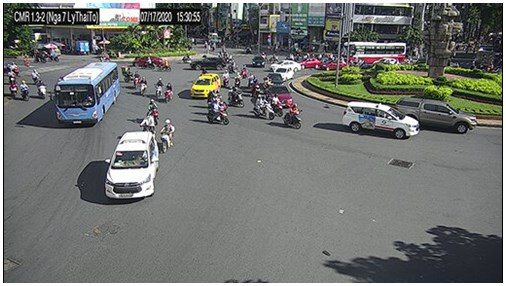xe_buyt: (342, 42, 405, 64)
xe_hoi: (105, 131, 160, 198), (341, 102, 419, 140), (397, 97, 476, 134), (267, 86, 293, 108), (192, 57, 227, 69), (271, 60, 301, 72), (373, 58, 400, 68), (298, 58, 321, 69), (266, 72, 282, 87), (321, 60, 347, 69), (274, 68, 293, 80), (252, 56, 264, 69)
xe_may: (206, 100, 229, 125), (253, 94, 275, 120), (160, 120, 175, 154), (282, 102, 300, 130), (141, 111, 156, 140), (209, 89, 228, 109), (266, 95, 283, 116), (146, 99, 159, 126), (229, 86, 244, 107), (122, 65, 138, 82), (20, 80, 30, 102), (164, 82, 173, 104), (142, 56, 155, 70), (37, 79, 46, 99), (32, 69, 43, 85), (9, 61, 20, 77), (155, 77, 163, 98), (9, 77, 17, 97), (139, 76, 147, 95), (158, 59, 170, 71), (133, 70, 140, 90), (252, 79, 260, 96), (180, 54, 192, 65), (234, 71, 241, 88), (223, 70, 229, 87)
